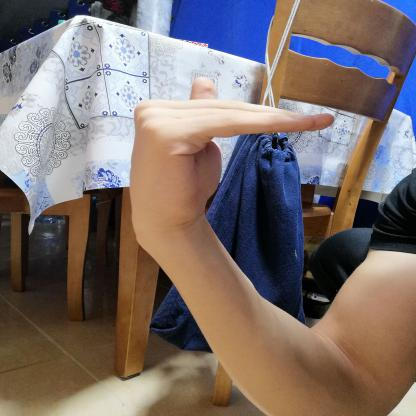KHAA: (113, 67, 349, 253)
